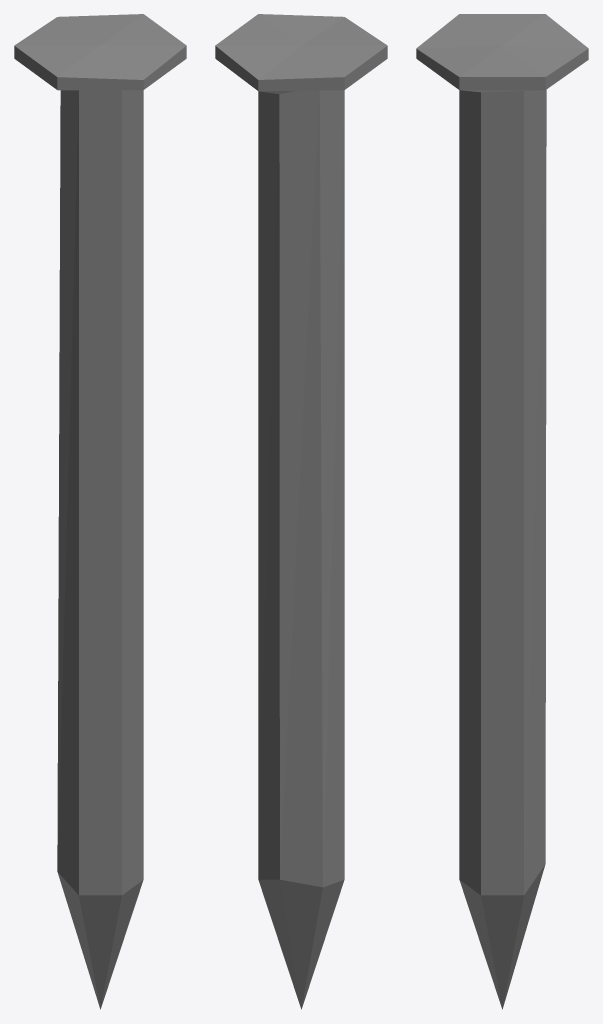
Rendered from nail_01.FBX.
The picture shows the model from 3 angles, left to right: view 1: azimuth 30°, elevation 25°; view 2: azimuth 150°, elevation 25°; view 3: azimuth 270°, elevation 25°; orthographic projection.
Parts seen in each view (by area): view 1: nail_low_poly; view 2: nail_low_poly; view 3: nail_low_poly.
Boxes of the visible parts, <box> form: nail_low_poly: <box>14,14,186,1009</box>; nail_low_poly: <box>215,14,387,1009</box>; nail_low_poly: <box>416,14,588,1009</box>.
Size of the model in its own units: 8.18 by 58.27 by 9.45.
Materials: 1 (1 with a texture image).
